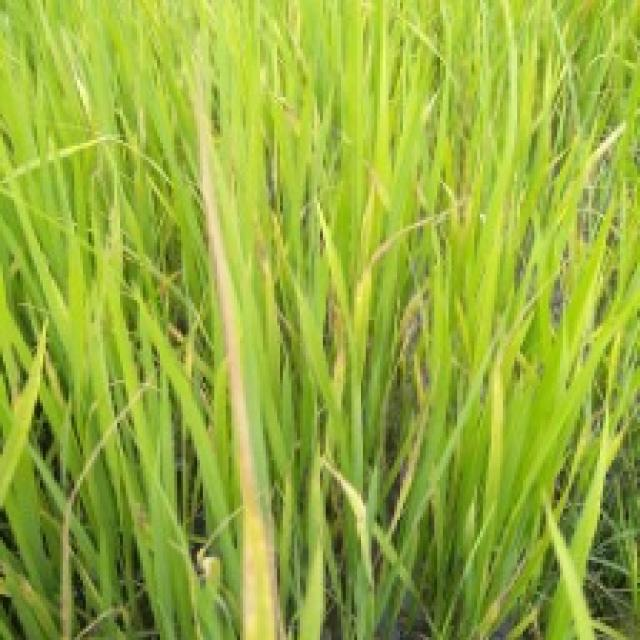Rice___Rice_Blast: (190, 122, 277, 637)
